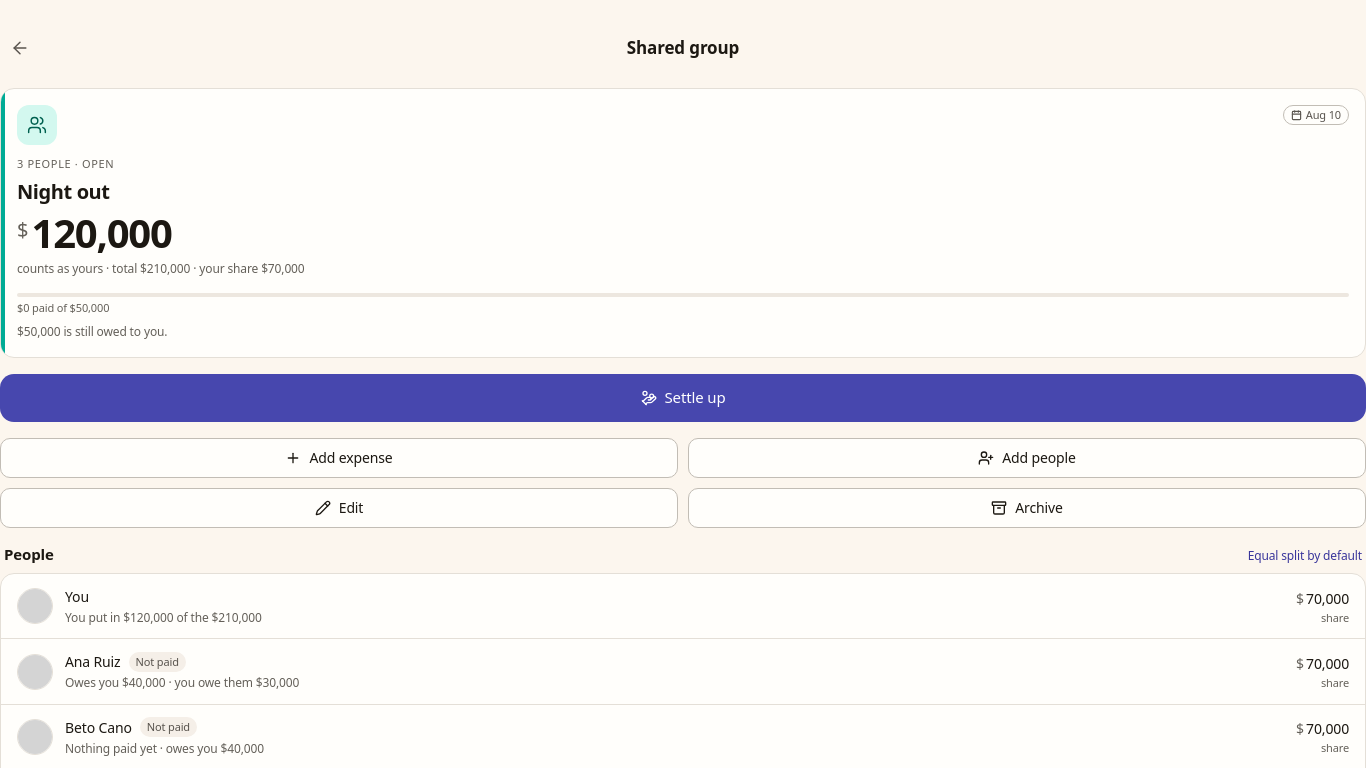
Test: SharedGroupScreen › opens the sheet for a line somebody else paid, from the same Add expense
Click the 2nd button named "Add expense" at point(339, 458), box [0, 438, 678, 478]
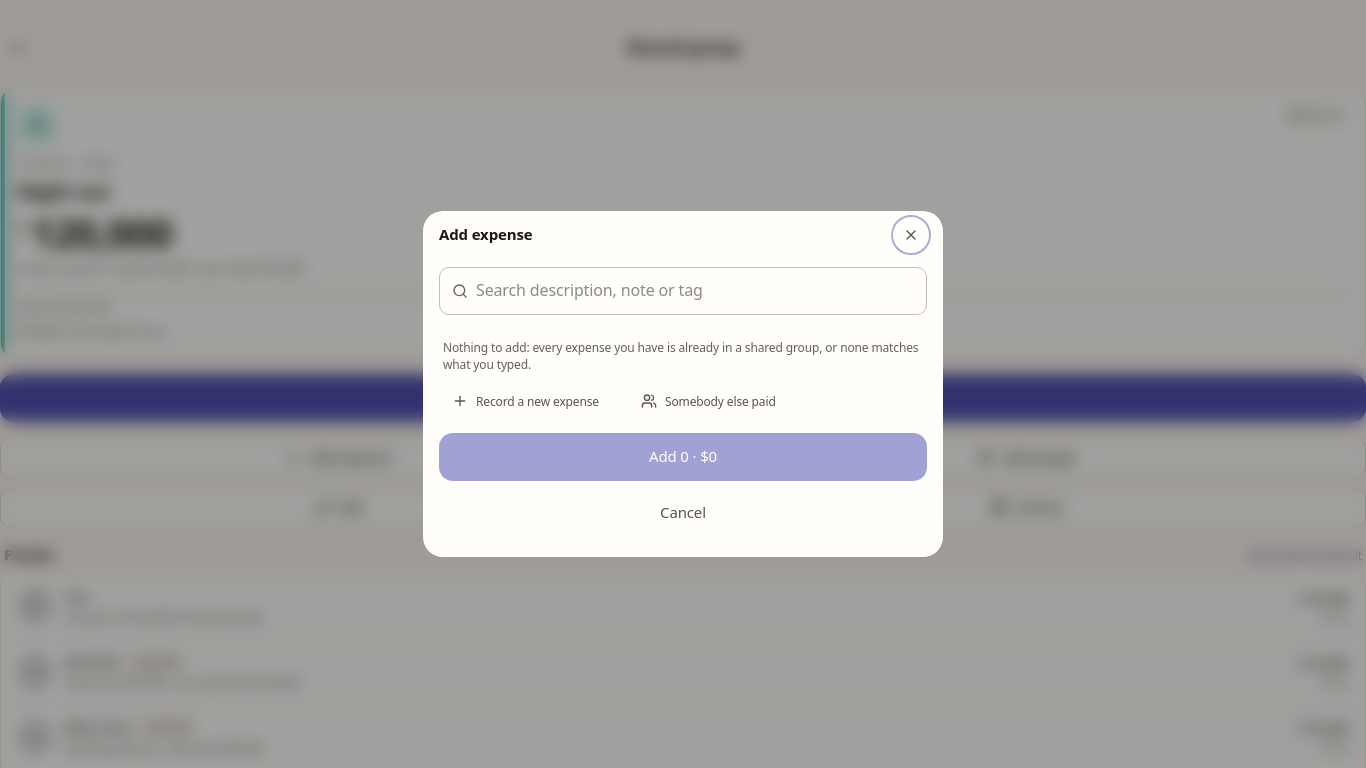
Click the 3rd button named "Somebody else paid" at point(708, 401), box [628, 385, 789, 417]
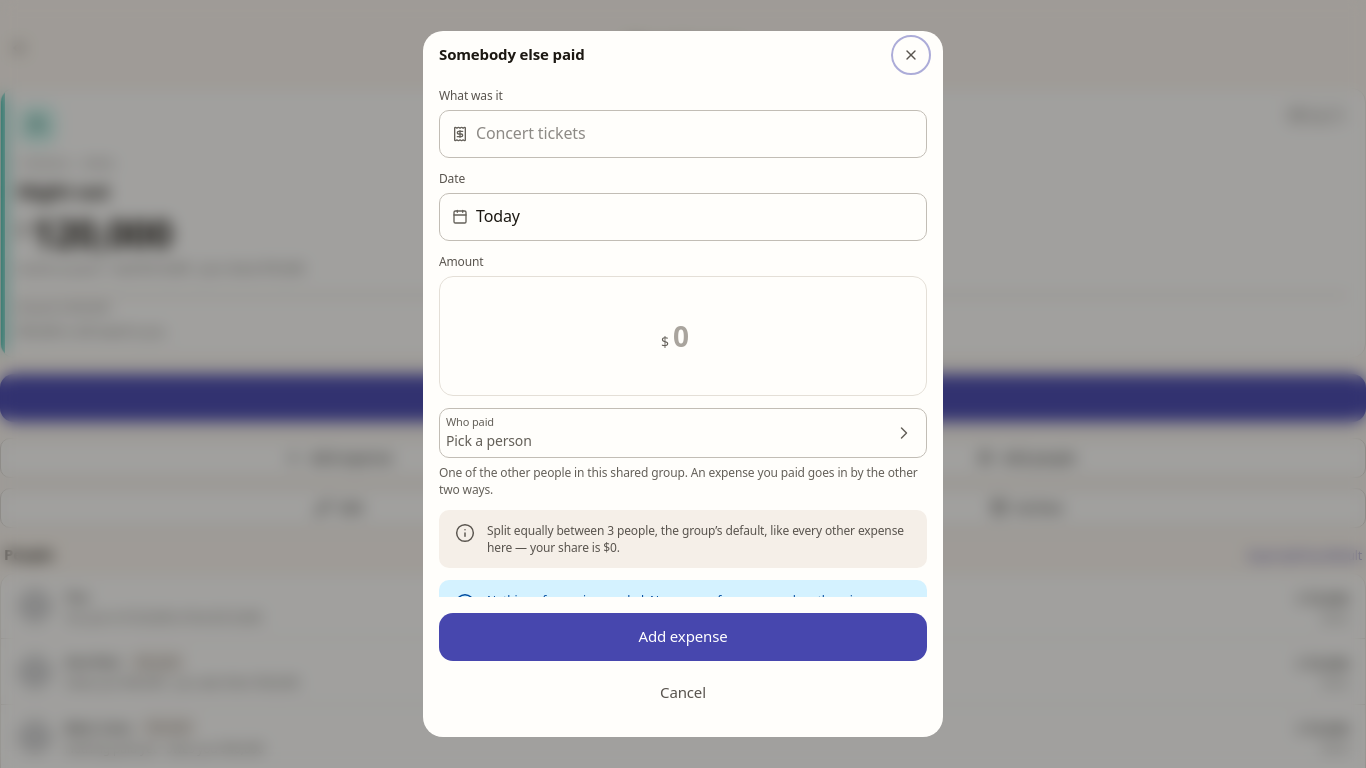
Result: the dialog "Somebody else paid" is shown at [423, 31, 943, 737]
